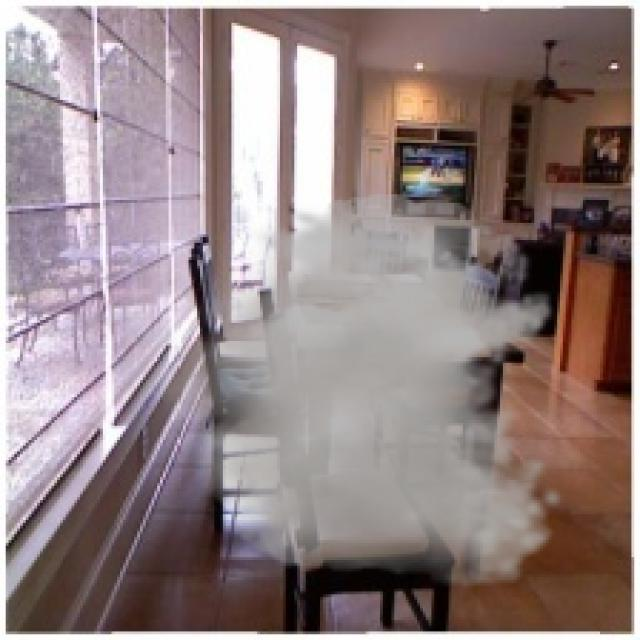smoke: (140, 194, 566, 589)
